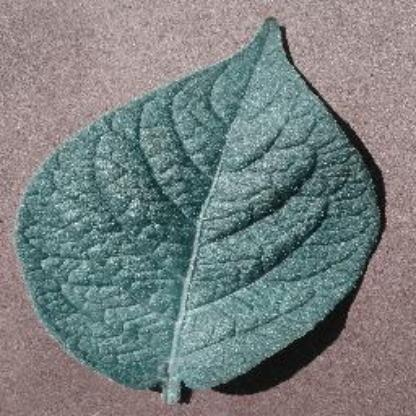Healthy-plant: (15, 26, 389, 394)
